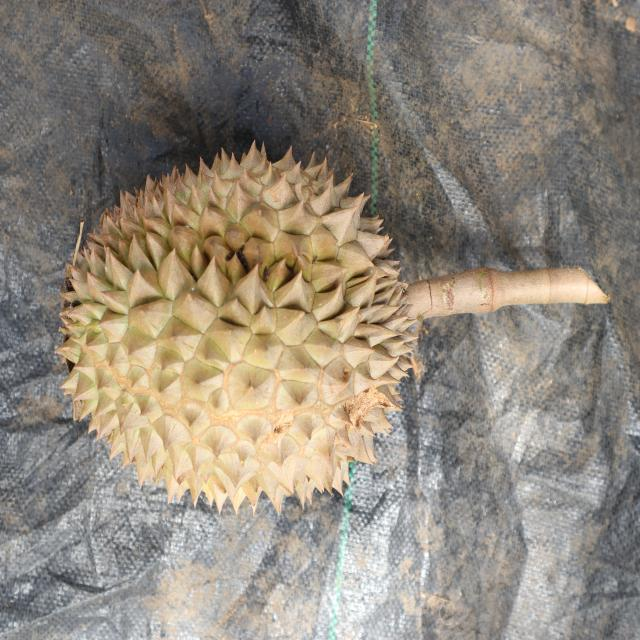mature: (57, 141, 417, 522)
